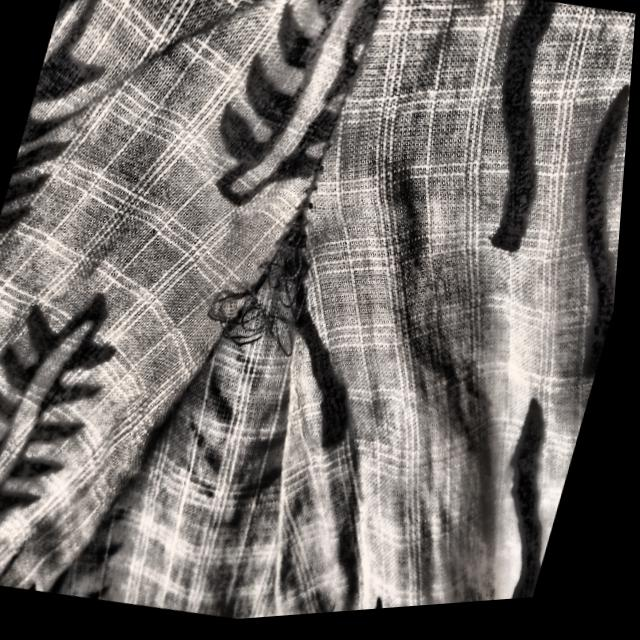Stitch: (159, 112, 426, 451)
